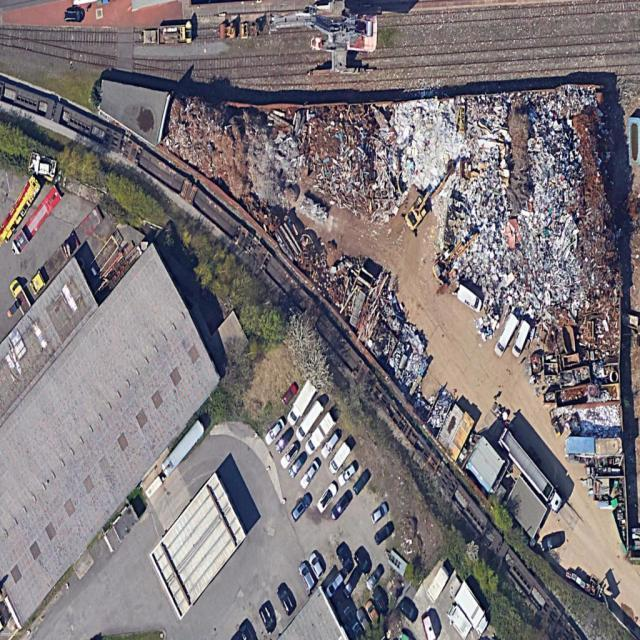dump_site: (535, 91, 620, 431), (242, 159, 386, 334), (457, 90, 537, 286), (306, 101, 394, 234), (358, 272, 444, 400), (396, 101, 460, 194), (424, 388, 456, 441)
